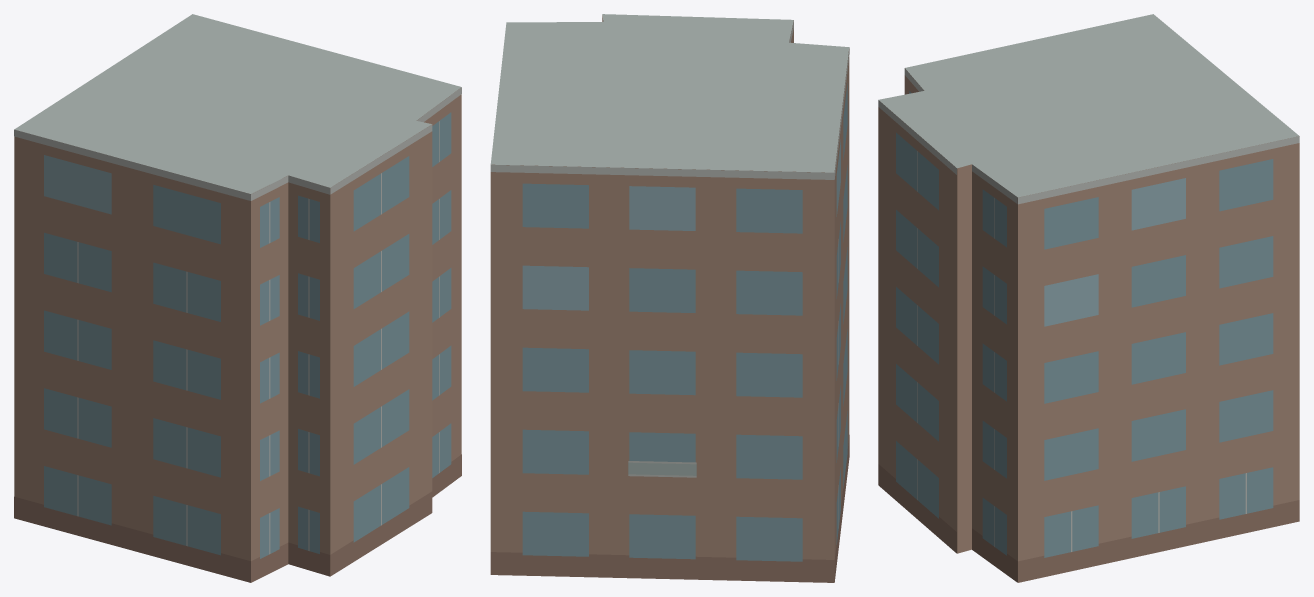
Rendered from survey-upis-32945643.glb.
The picture shows the model from 3 angles, left to right: view 1: azimuth 30°, elevation 25°; view 2: azimuth 150°, elevation 25°; view 3: azimuth 270°, elevation 25°; orthographic projection. The views are drawn at different scales.
Visible parts, largest first — view 1: survey-upis-32945643.tmp; view 2: survey-upis-32945643.tmp; view 3: survey-upis-32945643.tmp.
Part boxes in pixels (bbox=[...]): survey-upis-32945643.tmp: bbox=[14, 14, 461, 582]; survey-upis-32945643.tmp: bbox=[490, 14, 849, 582]; survey-upis-32945643.tmp: bbox=[878, 14, 1299, 582].
Bounding box in the file's own units: 13.9 × 13.6 × 13.48.
